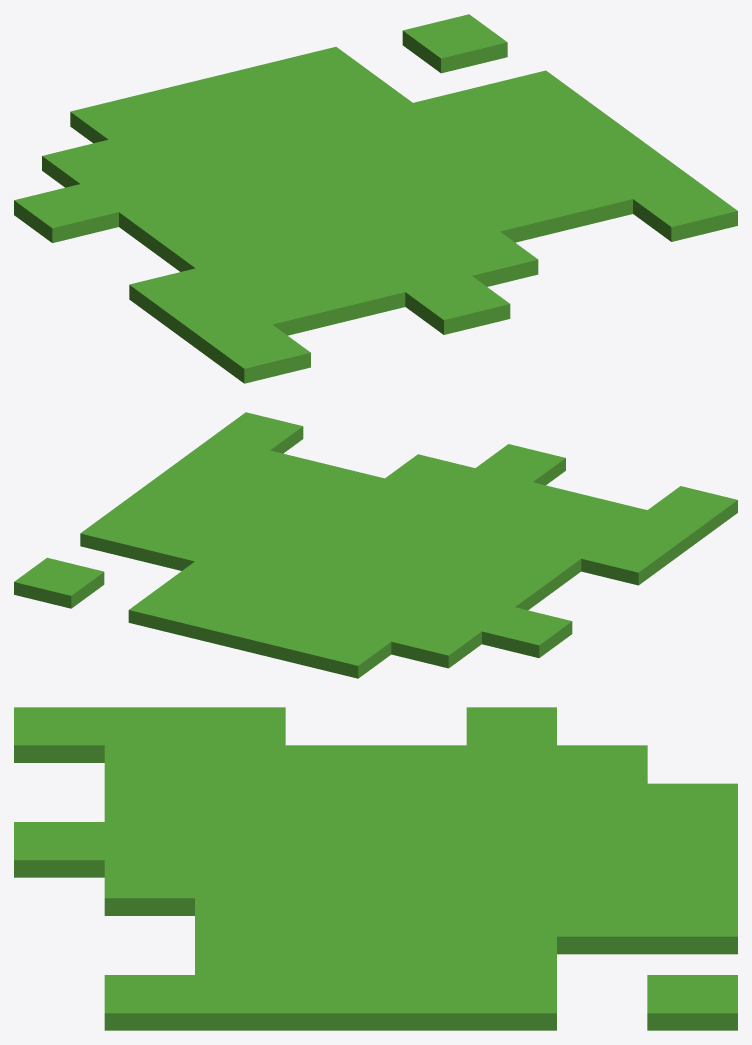
The picture shows the model from 3 angles, top to bottom: view 1: azimuth 30°, elevation 25°; view 2: azimuth 150°, elevation 25°; view 3: azimuth 270°, elevation 25°; orthographic projection. The views are drawn at different scales.
Parts seen in each view (by area): view 1: Plane.001; view 2: Plane.001; view 3: Plane.001.
Part boxes in pixels (left/top/right/bottom): Plane.001: left=14, top=14, right=737, bottom=383; Plane.001: left=14, top=412, right=737, bottom=678; Plane.001: left=14, top=707, right=737, bottom=1030.
Bounding box in the file's own units: 4151 × 111 × 4151.
